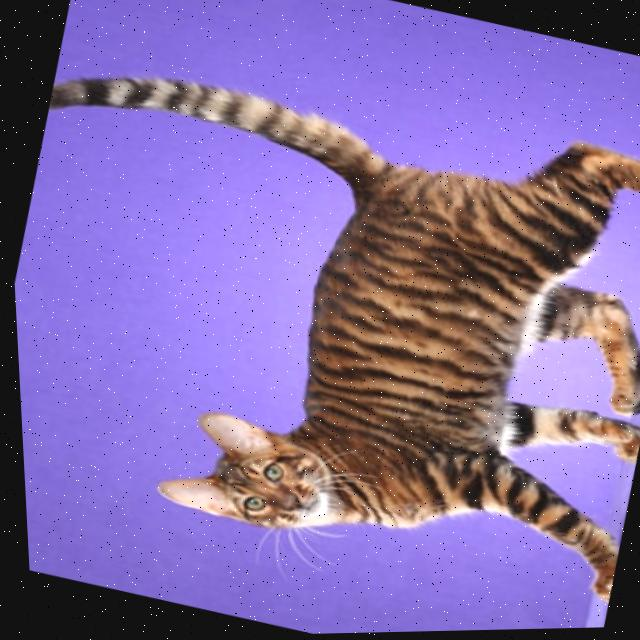Toyger: (1, 9, 640, 623)
